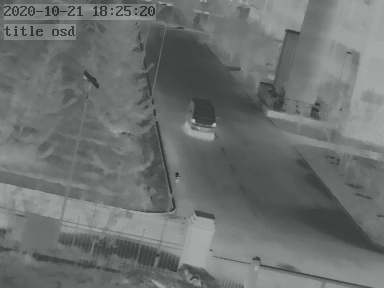vehicle: (184, 97, 219, 137)
